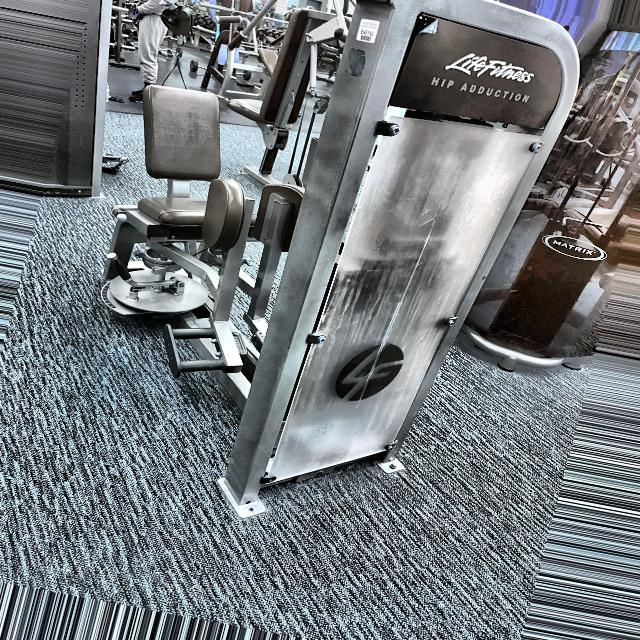hip_adduction_machine: (111, 63, 295, 386), (425, 68, 545, 127)
